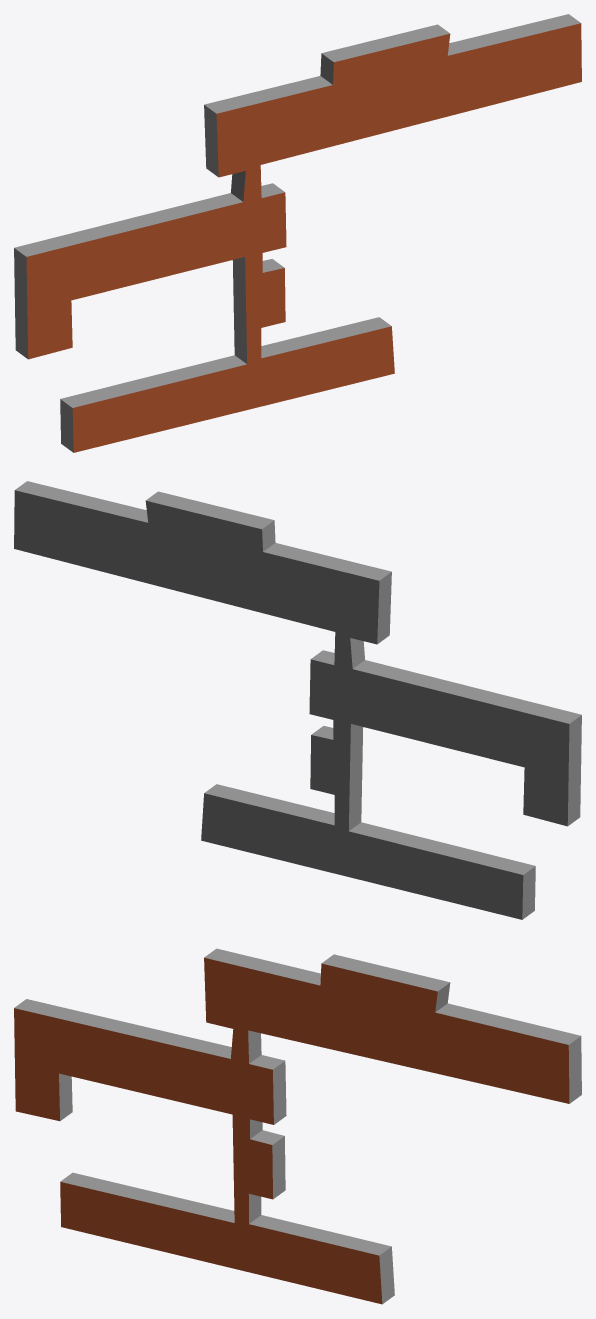
Rendered from construction_4698_assumed_A_Casa_h6m.obj.
3 views of the same model, one above another, from view 1: azimuth 30°, elevation 25°; view 2: azimuth 150°, elevation 25°; view 3: azimuth 330°, elevation 25° (orthographic).
Visible parts, largest first — view 1: construction_4698_assumed_A_Casa; view 2: construction_4698_assumed_A_Casa; view 3: construction_4698_assumed_A_Casa.
Boxes of the visible parts, left/top/right/bottom form: construction_4698_assumed_A_Casa: left=14, top=14, right=581, bottom=452; construction_4698_assumed_A_Casa: left=14, top=481, right=581, bottom=919; construction_4698_assumed_A_Casa: left=14, top=948, right=581, bottom=1304.
Bounding box in the file's own units: 154 × 86.54 × 6.
